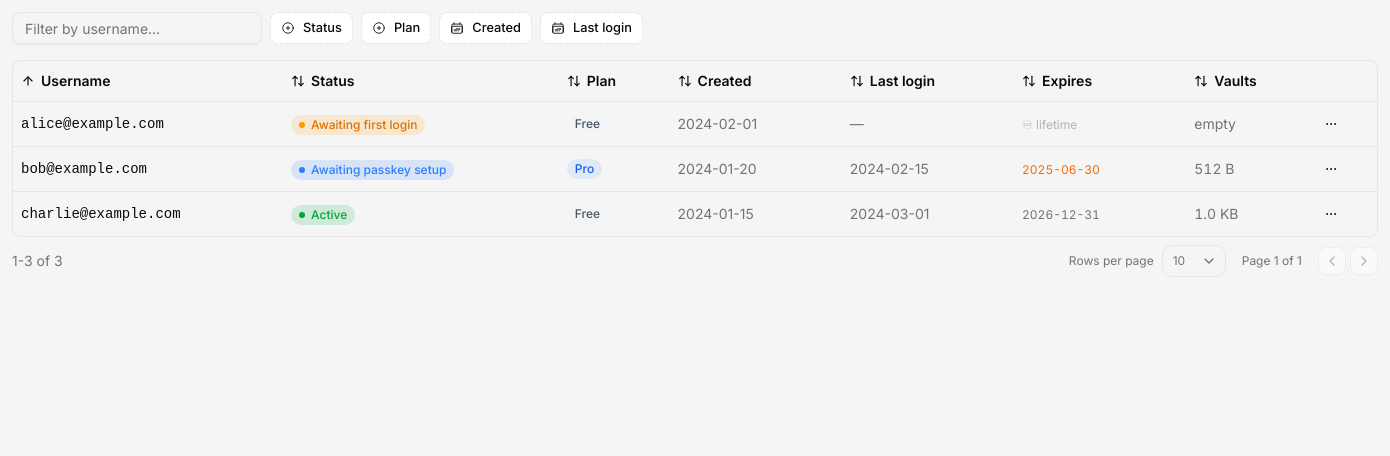
it: UserList › shows Lock option only for active users
Note: charlie is active — should have lock option
Click the button named "Actions for charlie@example.com".
click(1331, 214)  # box left=1317, top=200, right=1345, bottom=228
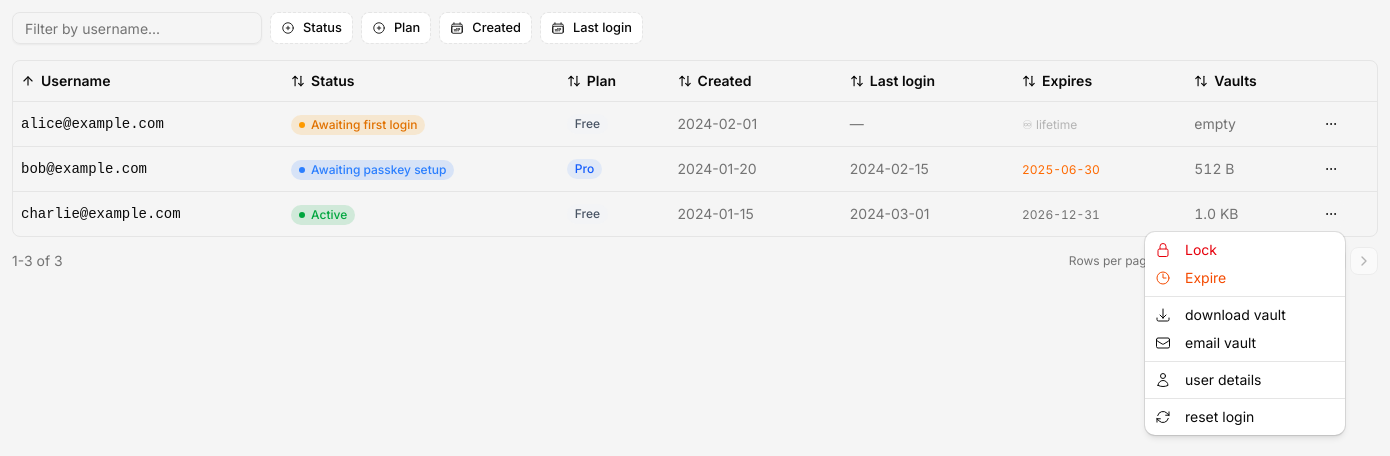
Expected: the menu item "Lock" is shown, left=1155, top=241, right=1217, bottom=258
Press Escape
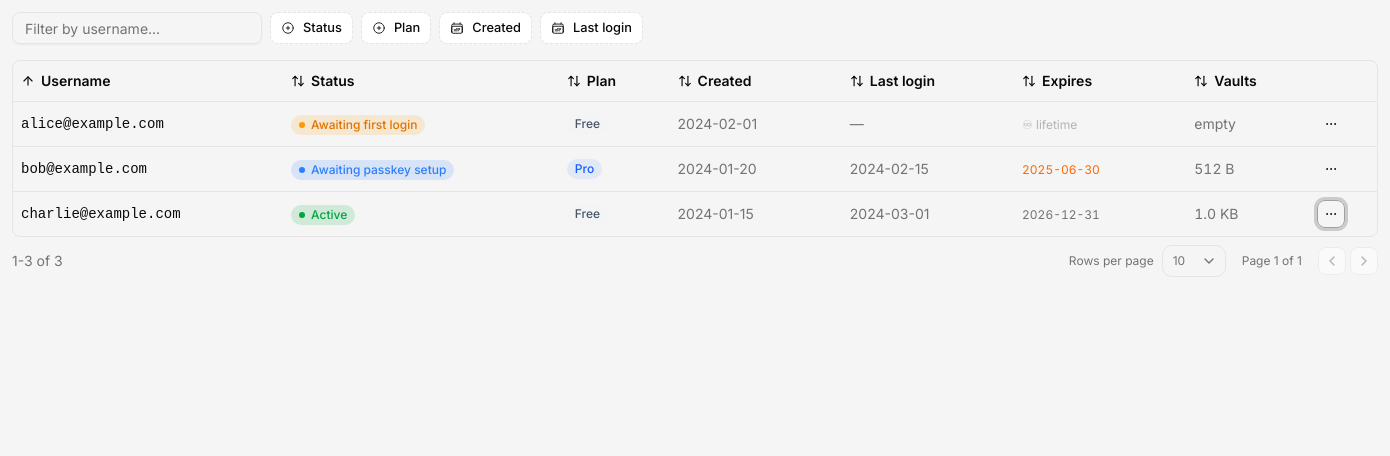
Note: alice is pending_first_login — no lock option
Click the button named "Actions for alice@example.com".
click(1331, 124)  # box left=1317, top=110, right=1345, bottom=138
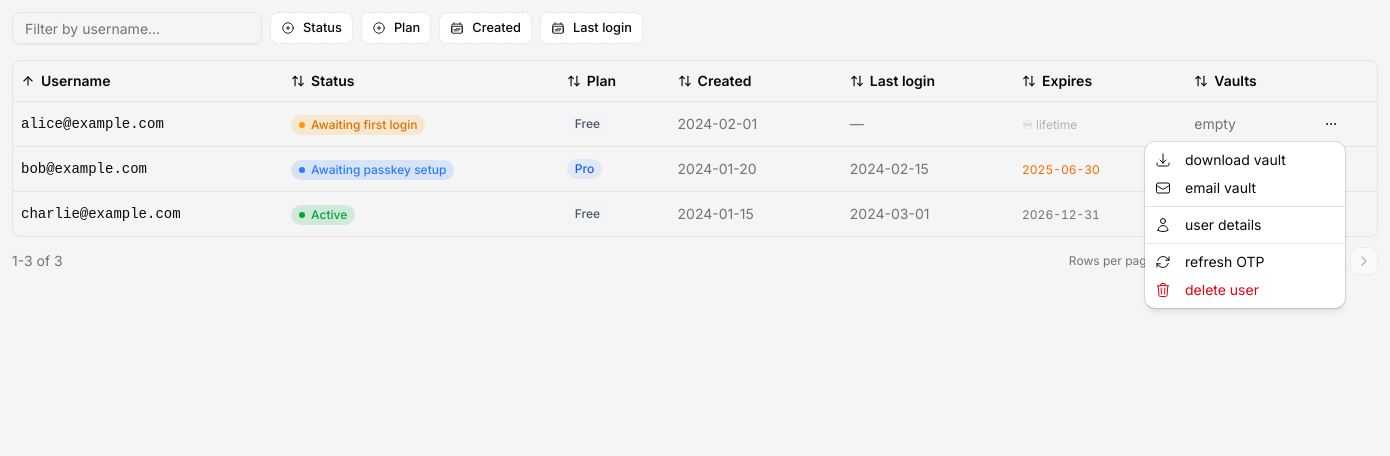
Expected: the menu item "Lock" is not shown
Expected: the menu item "download vault" is shown, left=1155, top=151, right=1286, bottom=168
